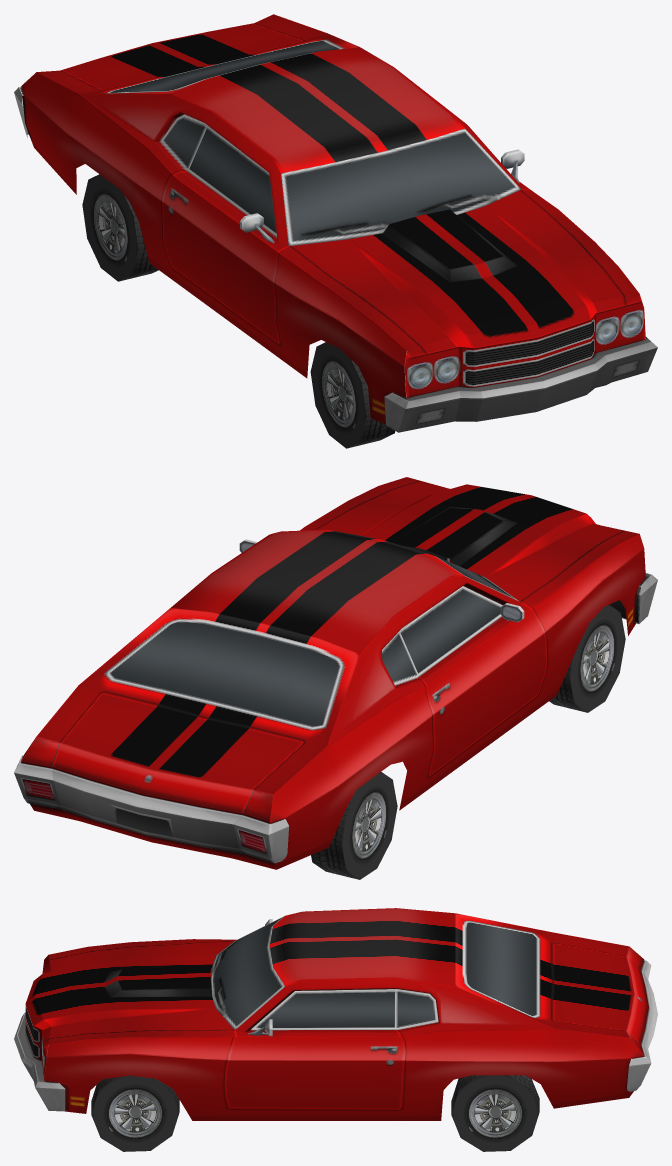
Rendered from ClassicHotRod_LOD1.fbx.
The picture shows the model from 3 angles, top to bottom: view 1: azimuth 30°, elevation 25°; view 2: azimuth 150°, elevation 25°; view 3: azimuth 270°, elevation 25°; orthographic projection. The views are drawn at different scales.
Visible parts, largest first — view 1: Chassis, FR_Wheel, RR_Wheel; view 2: Chassis, RR_Wheel, FR_Wheel; view 3: Chassis, LR_Wheel, LF_Wheel.
Part boxes in pixels (x1=…): Chassis: x1=14, y1=14, x2=657, y2=432; FR_Wheel: x1=310, y1=342, x2=395, y2=448; RR_Wheel: x1=82, y1=174, x2=158, y2=281; Chassis: x1=14, y1=477, x2=657, y2=869; RR_Wheel: x1=311, y1=772, x2=397, y2=879; FR_Wheel: x1=549, y1=604, x2=625, y2=712; Chassis: x1=14, y1=908, x2=657, y2=1120; LR_Wheel: x1=451, y1=1075, x2=539, y2=1151; LF_Wheel: x1=91, y1=1075, x2=179, y2=1151.
Bounding box in the file's own units: 2.07 × 1.46 × 5.19.
2 materials, 2 textured.
